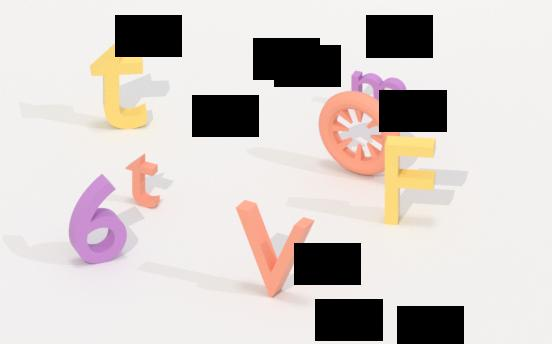6: (66, 170, 130, 266)
F: (379, 131, 438, 232)
m: (349, 65, 410, 121)
t: (88, 41, 153, 133), (127, 150, 163, 213)
tron: (317, 87, 403, 180)
v: (232, 196, 321, 302)
